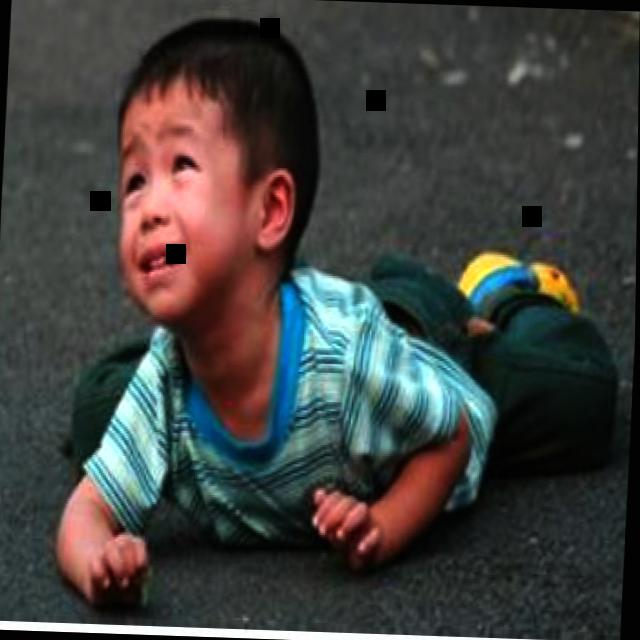Fall-Detected: (10, 0, 630, 621)
